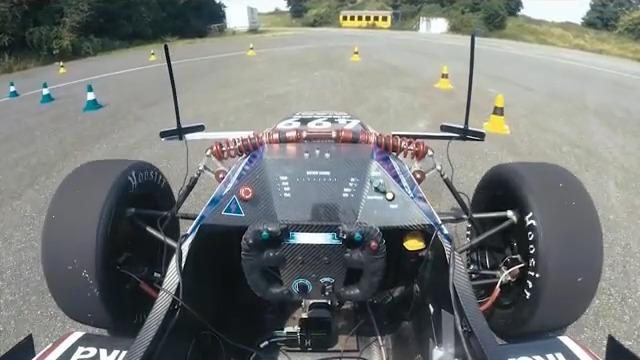blue_cone: (82, 84, 104, 112), (40, 82, 55, 104), (8, 81, 21, 99)
yellow_cone: (483, 94, 512, 134), (434, 66, 454, 89), (350, 45, 362, 62), (246, 43, 257, 55), (59, 61, 68, 74), (149, 48, 157, 61)
